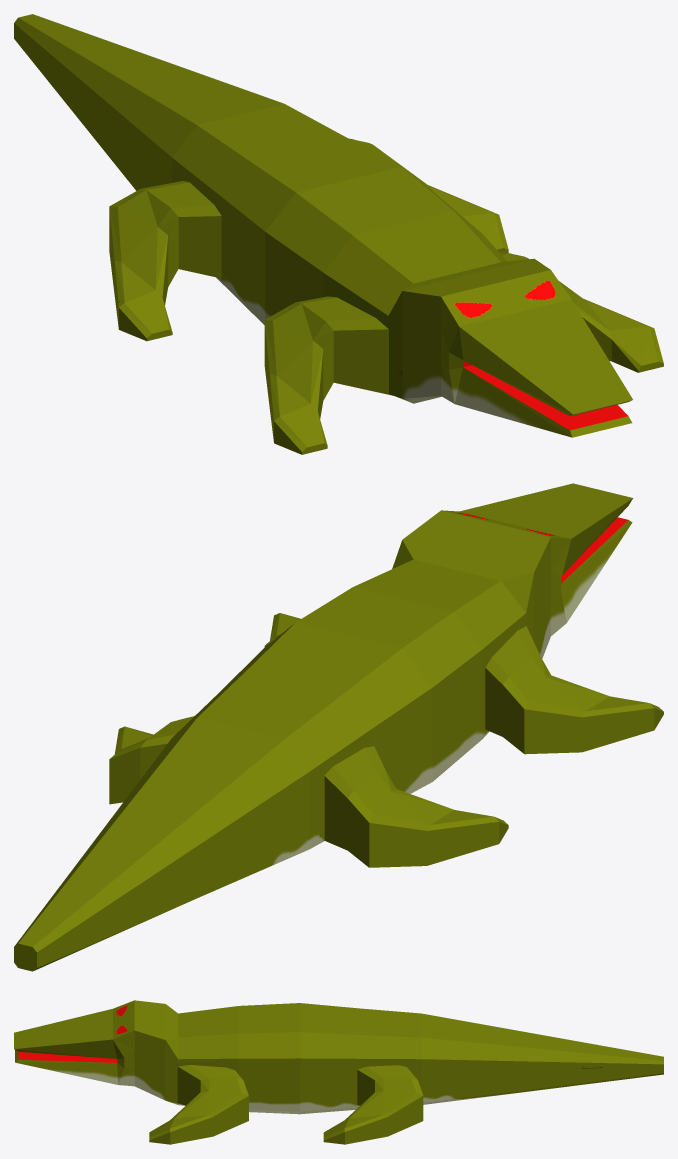
Rendered from wani.obj.
The picture shows the model from 3 angles, top to bottom: view 1: azimuth 30°, elevation 25°; view 2: azimuth 150°, elevation 25°; view 3: azimuth 270°, elevation 25°; orthographic projection. The views are drawn at different scales.
Visible parts, largest first — view 1: Cube; view 2: Cube; view 3: Cube.
Part boxes in pixels (x1,y1,x2,y2): Cube: (14,14,663,454); Cube: (14,483,663,971); Cube: (14,1000,663,1144).
Size of the model in its own units: 9.59 by 3.61 by 25.24.
1 material, 1 textured.
